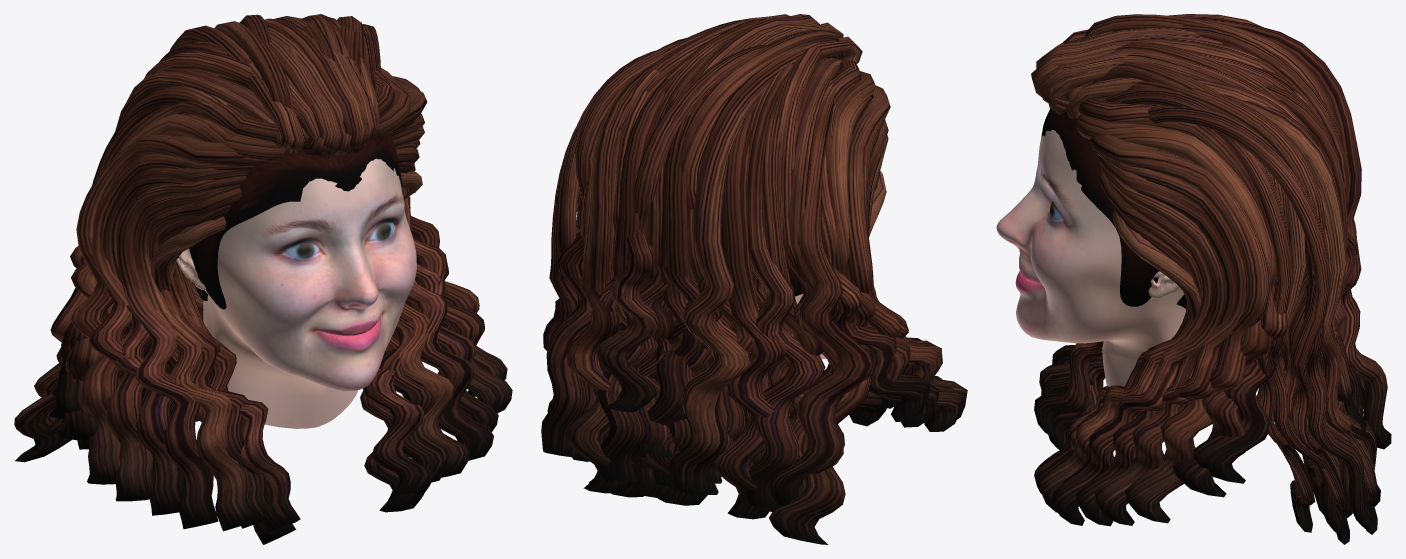
File: smile.obj
3 views of the same model, side by side, from view 1: azimuth 30°, elevation 25°; view 2: azimuth 150°, elevation 25°; view 3: azimuth 270°, elevation 25° (orthographic). The views are drawn at different scales.
Visible parts, largest first — view 1: smile; view 2: smile; view 3: smile.
Part boxes in pixels (x1,y1,x2,y2): smile: (14, 14, 512, 544); smile: (541, 14, 967, 544); smile: (996, 14, 1391, 544).
Bounding box in the file's own units: 365 × 387 × 298.
